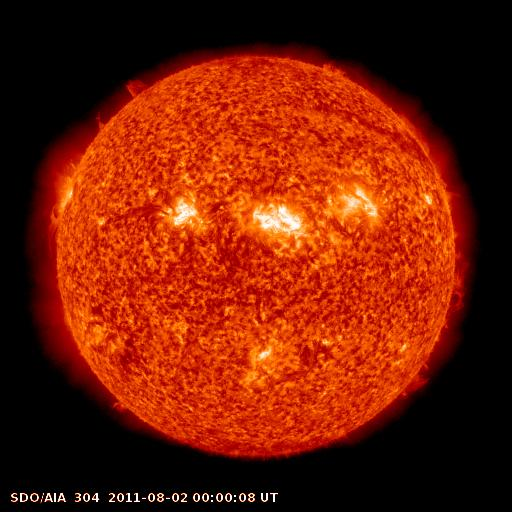prominence: (441, 245, 468, 317), (395, 106, 432, 155), (398, 358, 436, 403), (118, 71, 157, 104), (42, 208, 68, 256), (318, 54, 357, 84), (105, 391, 137, 424)
